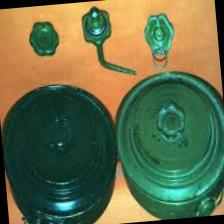TM-46: (0, 74, 121, 224), (115, 55, 224, 216)
